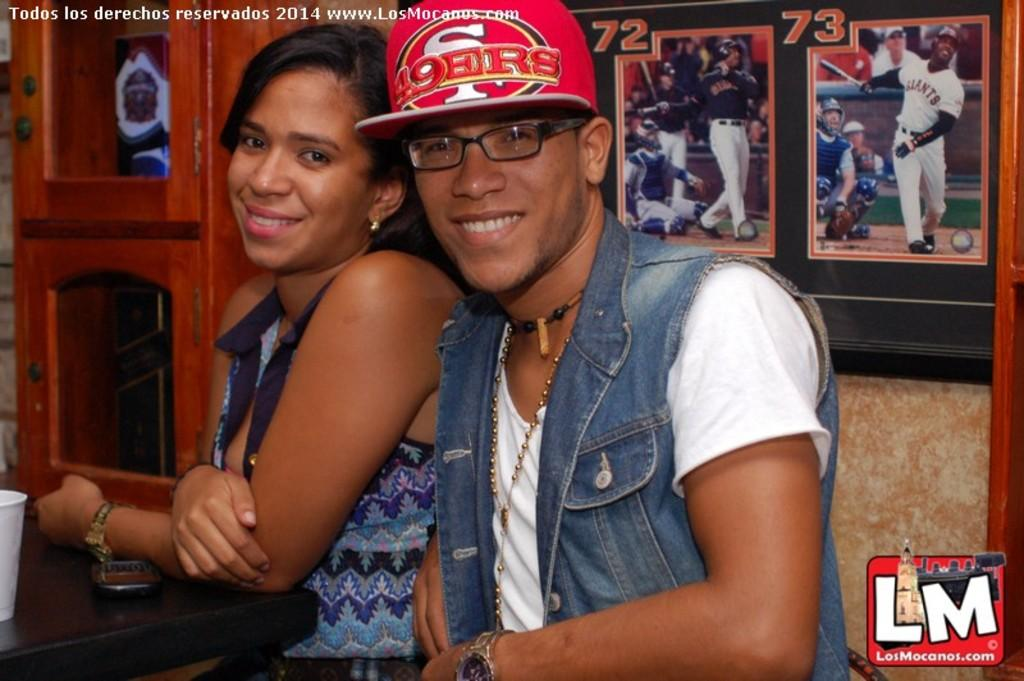Hat: (354, 0, 600, 148)
